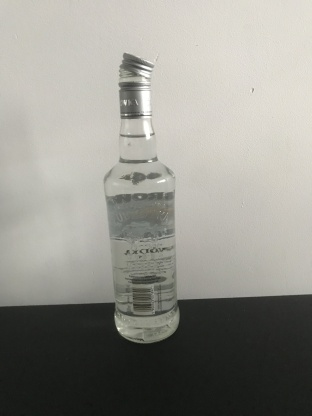nakretka: (116, 49, 155, 119)
